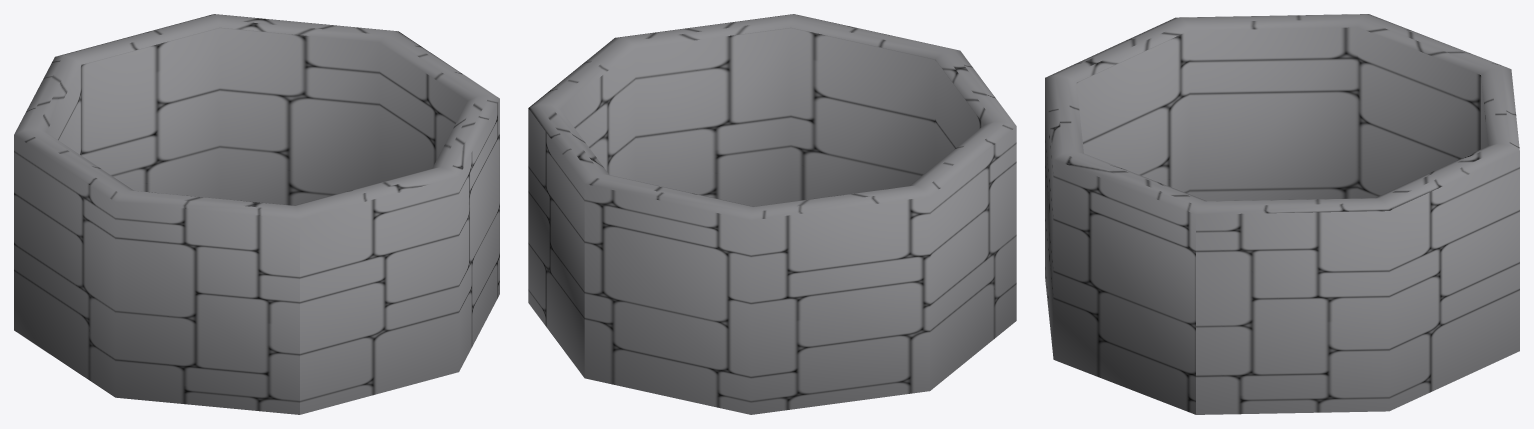
Rendered from WellBase.fbx.
3 renders of one model, left to right at view 1: azimuth 30°, elevation 25°; view 2: azimuth 150°, elevation 25°; view 3: azimuth 270°, elevation 25°, orthographic. The views are drawn at different scales.
Parts seen in each view (by area): view 1: Cylinder; view 2: Cylinder; view 3: Cylinder.
Boxes of the visible parts, bbox=[...] form: Cylinder: bbox=[14, 14, 499, 414]; Cylinder: bbox=[528, 14, 1016, 414]; Cylinder: bbox=[1045, 14, 1519, 414].
Size of the model in its own units: 421 by 200 by 421.
